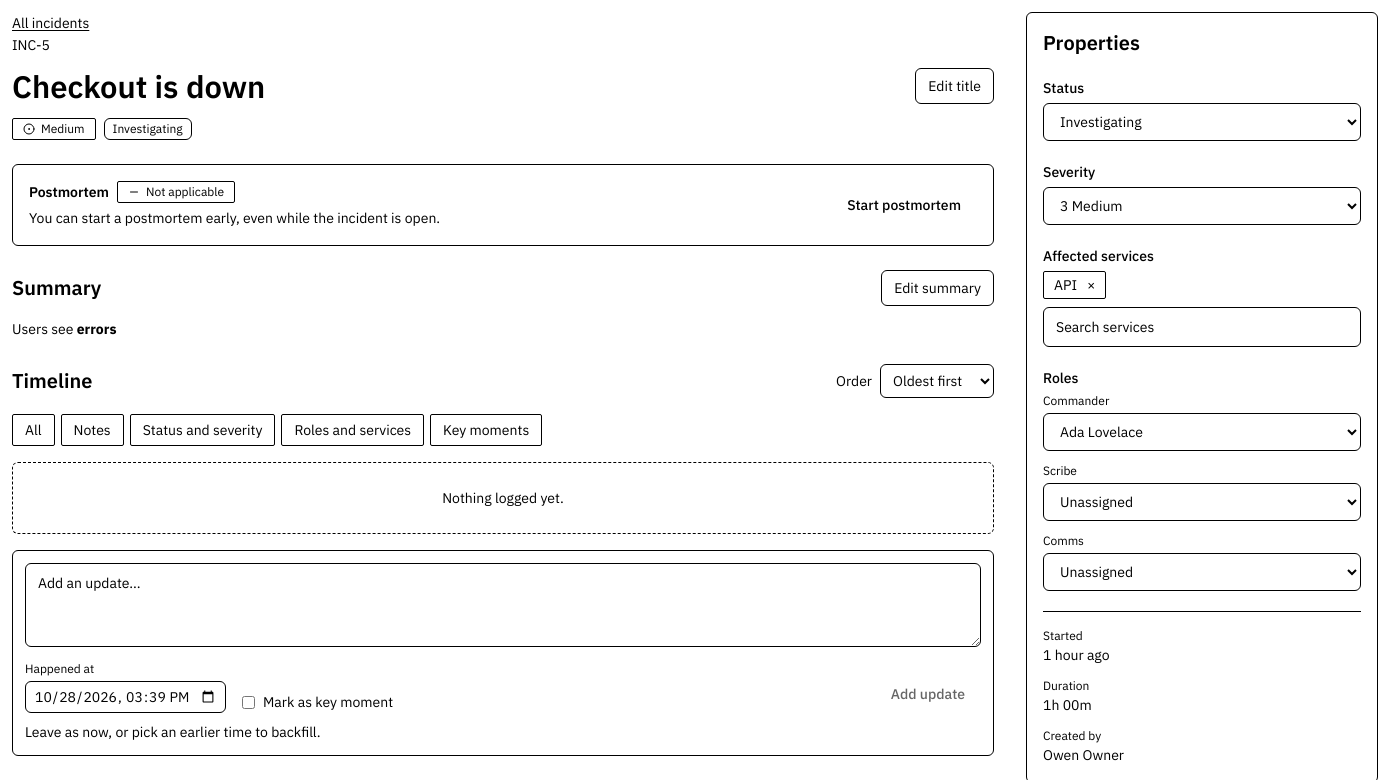
Scenario: roles › restores the previous holder when assignment fails
This screenshot has width=1378, height=780.
Select "grace@x.test" in the dropdown labelled "Commander" at (1202, 432), box [1043, 413, 1361, 451]
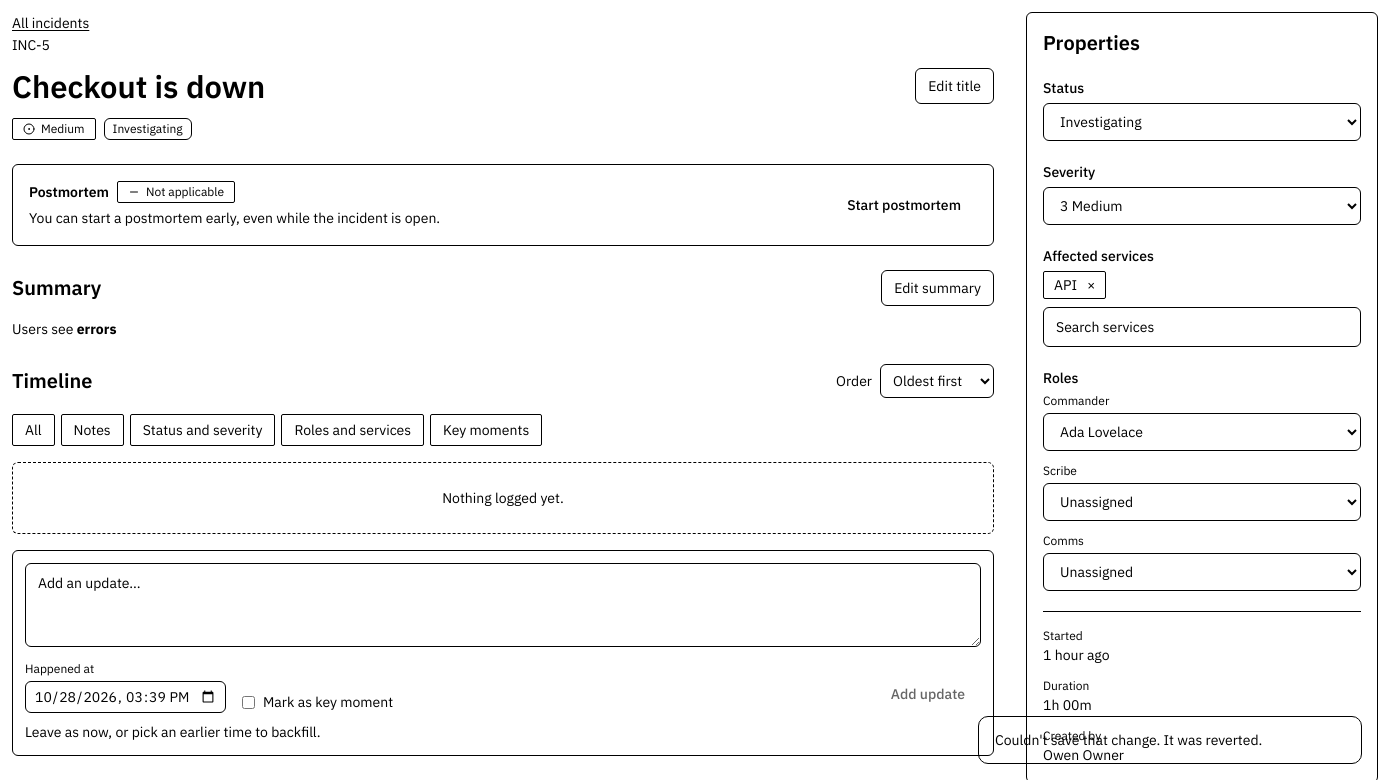
Expected: the message reads "Couldn't save that change. It was reverted.", [995, 731, 1262, 749]
